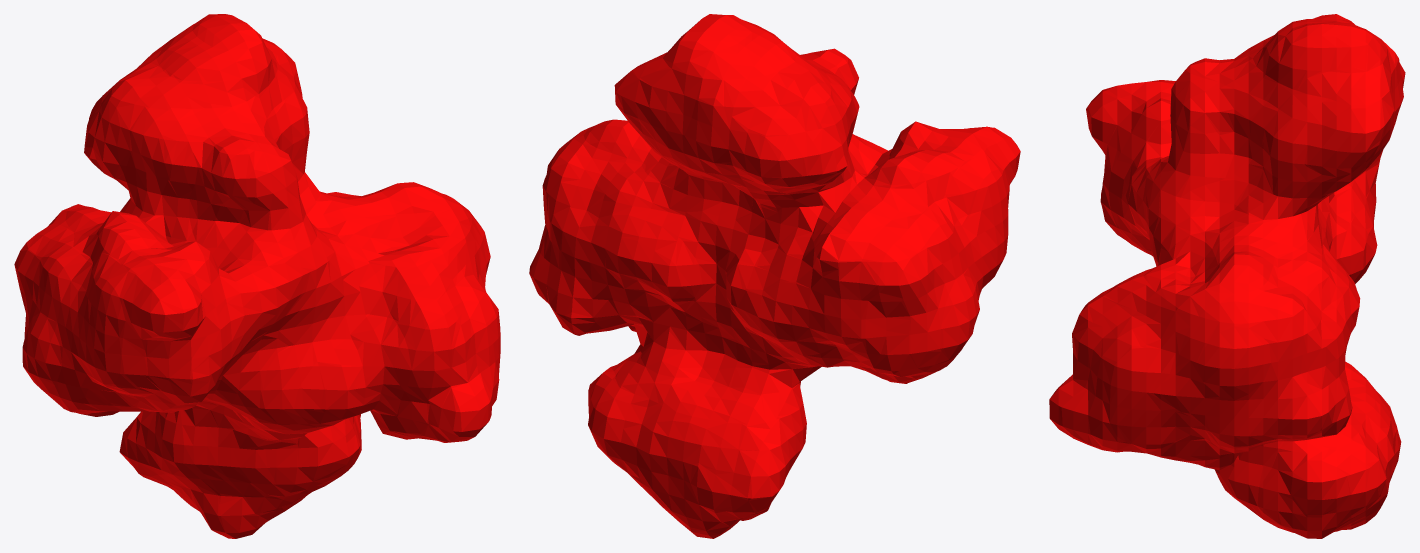
The model's file is lplA_coarse.dae.
The picture shows the model from 3 angles, left to right: view 1: azimuth 30°, elevation 25°; view 2: azimuth 150°, elevation 25°; view 3: azimuth 270°, elevation 25°; orthographic projection.
Visible parts, largest first — view 1: lplA; view 2: lplA; view 3: lplA.
Part boxes in pixels (<box>): lplA: <box>14,14,500,538</box>; lplA: <box>529,14,1020,538</box>; lplA: <box>1049,14,1405,538</box>.
Bounding box in the file's own units: 85.2 × 93.89 × 59.96.
